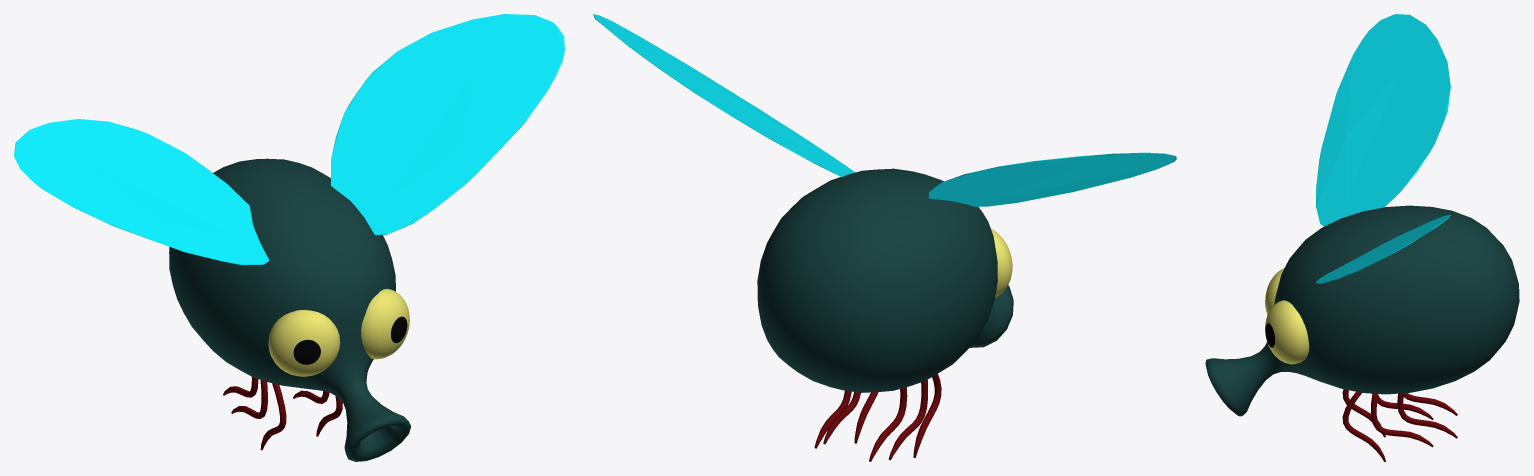
The model's file is muhahahahahahah.fbx.
3 renders of one model, left to right at view 1: azimuth 30°, elevation 25°; view 2: azimuth 150°, elevation 25°; view 3: azimuth 270°, elevation 25°, orthographic. The views are drawn at different scales.
Parts seen in each view (by area): view 1: SKRZYDŁA, CIALO1, OCZY1, NOGI3.001; view 2: CIALO1, SKRZYDŁA, NOGI3.001, OCZY1; view 3: CIALO1, SKRZYDŁA, OCZY1, NOGI3.001.
Part boxes in pixels (bbox=[...]): SKRZYDŁA: bbox=[14, 14, 564, 265]; CIALO1: bbox=[169, 158, 411, 461]; OCZY1: bbox=[268, 288, 409, 376]; NOGI3.001: bbox=[223, 377, 342, 450]; CIALO1: bbox=[757, 168, 1013, 392]; SKRZYDŁA: bbox=[593, 14, 1176, 206]; NOGI3.001: bbox=[814, 373, 941, 461]; OCZY1: bbox=[991, 228, 1012, 297]; CIALO1: bbox=[1205, 205, 1519, 416]; SKRZYDŁA: bbox=[1316, 14, 1450, 283]; OCZY1: bbox=[1265, 268, 1309, 364]; NOGI3.001: bbox=[1342, 389, 1457, 461].
Bounding box in the file's own units: 491 × 272 × 306.
